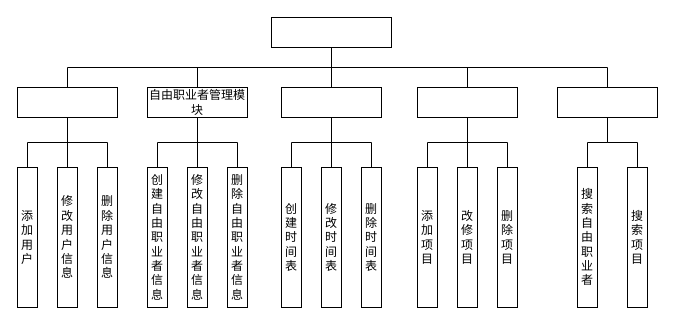
Some shapes in this 675 by 325 pixel diagram are drawn without their labels. The shapes that lost their labels are listed below. From the top down, each one's centre as x and y in pixels, then its label:
At pixel 331 32: "服务租借系统".
At pixel 67 102: "用户管理模块".
At pixel 331 102: "时间表管理模块".
At pixel 467 102: "项目管理模块".
At pixel 607 102: "搜索模块".
